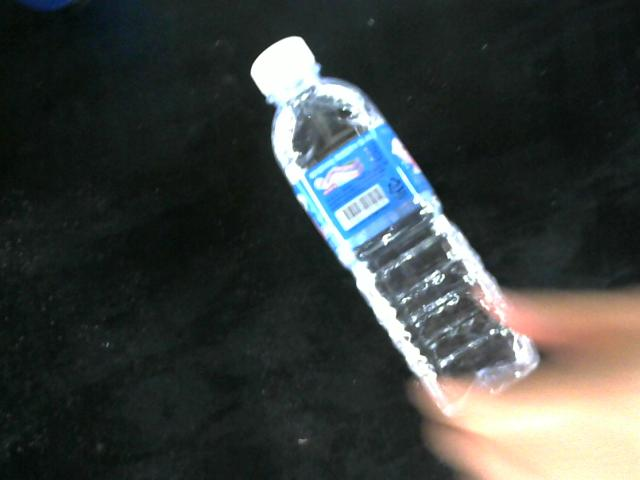bottle: (252, 34, 542, 428)
